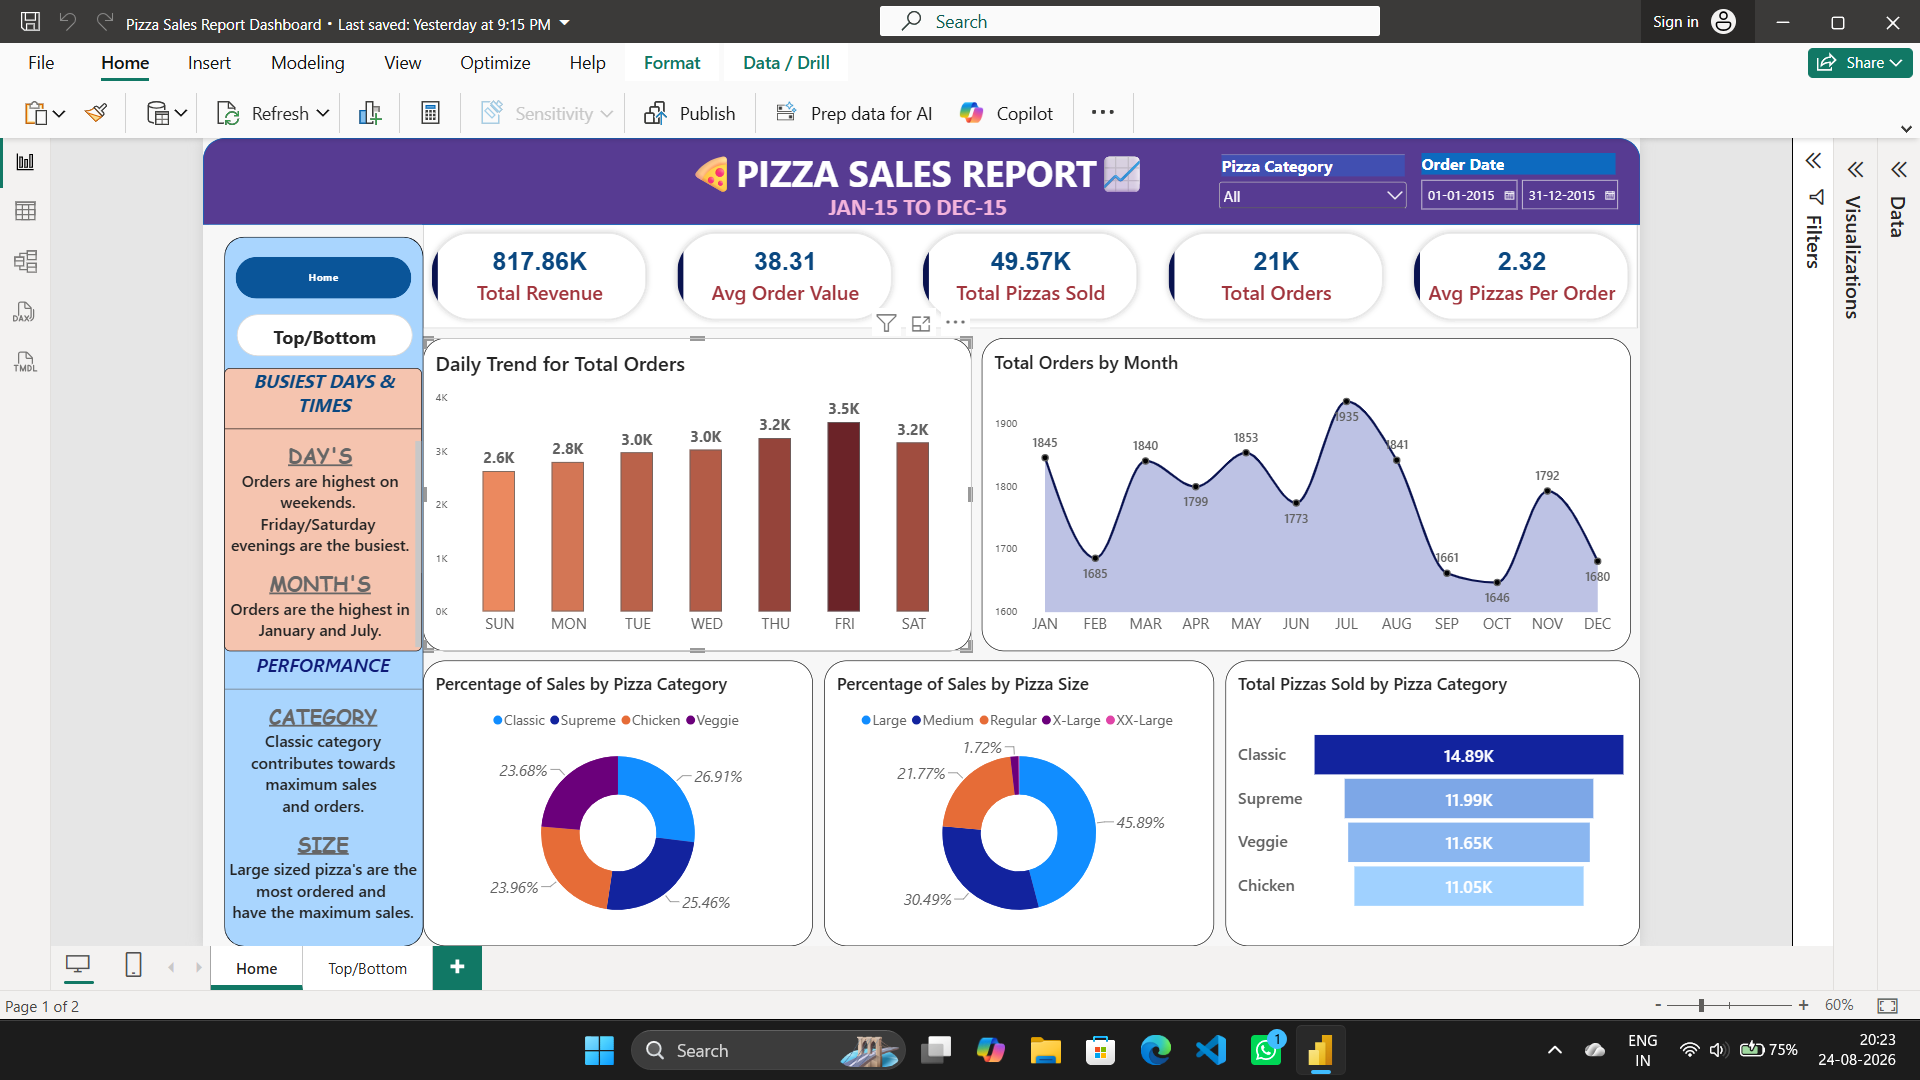

This screenshot's page, from the dashboard's own definition file:
{"tool":"powerbi","page":{"name":"Home","canvas":[1920,1080],"ordinal":0},"visuals":[{"type":"cardVisual","fields":{"Data":["pizza_sales.Total Revenue","pizza_sales.Avg Order Value","pizza_sales.Total Pizzas Sold","pizza_sales.Total Orders","pizza_sales.Avg Pizzas Per Order"]},"box":[293.2,115.8,1626.9,139.3],"z":0},{"type":"shape","box":[0,0,1920,116],"z":1000},{"type":"textbox","box":[0,14,1920,84],"z":2000},{"type":"textbox","box":[708,72,494,44],"z":3000},{"type":"columnChart","title":"Daily Trend for Total Orders","fields":{"Category":["pizza_sales.Order Day"],"Y":["pizza_sales.Total Orders"]},"box":[293.2,267.8,732.9,418],"z":4000},{"type":"areaChart","title":"Total Orders by Month","fields":{"Category":["pizza_sales.Order Month"],"Y":["pizza_sales.Total Orders"]},"box":[1040.6,267.8,866.8,418],"z":5000},{"type":"donutChart","title":"Percentage of Sales by Pizza Category","fields":{"Category":["pizza_sales.pizza_category"],"Y":["pizza_sales.Total Revenue"]},"box":[293.2,698.5,521.2,381.8],"z":6000},{"type":"donutChart","title":"Percentage of Sales by Pizza Size","fields":{"Category":["pizza_sales.pizza_size"],"Y":["pizza_sales.Total Revenue"]},"box":[830.6,698.5,521.2,381.8],"z":7000},{"type":"funnel","title":"Total Pizzas Sold by Pizza Category","fields":{"Category":["pizza_sales.pizza_category"],"Y":["pizza_sales.Total Pizzas Sold"]},"box":[1366.3,698.5,553.8,381.8],"z":8000},{"type":"shape","box":[29,132.1,266,948.3],"z":9000},{"type":"textbox","title":"BUSIEST DAYS & TIMES","box":[29,307.6,264.2,378.2],"z":10000},{"type":"textbox","title":"PERFORMANCE","box":[29,685.9,264.2,394.5],"z":11000},{"type":"slicer","fields":{"Values":["pizza_sales.pizza_category"]},"box":[1351.8,21.7,260.6,72.4],"z":12000},{"type":"slicer","fields":{"Values":["pizza_sales.order_date"]},"box":[1619.6,19.9,275.1,150.2],"z":13000},{"type":"pageNavigator","box":[45.2,235.3,235.3,56.1],"z":13002},{"type":"pageNavigator","box":[43.4,159.3,235.3,56.1],"z":13003}]}

Visuals, with their boxes on the page's 1920x1080 design canvas (x1, y1, x2, y2). These are canvas units, not pixel positions in the 1920x1080 screenshot, which may show the page scaled, cropped or inside an application window:
cardVisual - pizza_sales.Total Revenue x pizza_sales.Avg Order Value: 293,116,1920,255
shape: 0,0,1920,116
textbox: 0,14,1920,98
textbox: 708,72,1202,116
"Daily Trend for Total Orders" columnChart: 293,268,1026,686
"Total Orders by Month" areaChart: 1041,268,1907,686
"Percentage of Sales by Pizza Category" donutChart: 293,698,814,1080
"Percentage of Sales by Pizza Size" donutChart: 831,698,1352,1080
"Total Pizzas Sold by Pizza Category" funnel: 1366,698,1920,1080
shape: 29,132,295,1080
"BUSIEST DAYS & TIMES" textbox: 29,308,293,686
"PERFORMANCE" textbox: 29,686,293,1080
slicer - pizza_sales.pizza_category: 1352,22,1612,94
slicer - pizza_sales.order_date: 1620,20,1895,170
pageNavigator: 45,235,280,291
pageNavigator: 43,159,279,215
